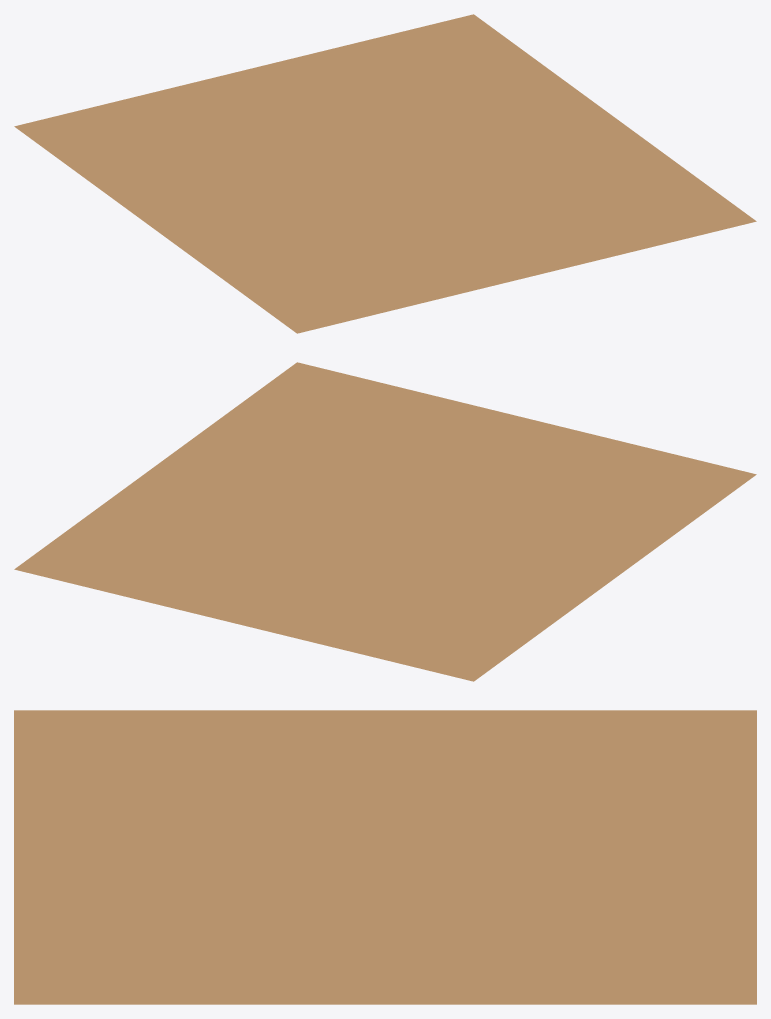
The model's file is PastoCentral.fbx.
The picture shows the model from 3 angles, top to bottom: view 1: azimuth 30°, elevation 25°; view 2: azimuth 150°, elevation 25°; view 3: azimuth 270°, elevation 25°; orthographic projection. The views are drawn at different scales.
Parts seen in each view (by area): view 1: Suelo.001; view 2: Suelo.001; view 3: Suelo.001.
Part boxes in pixels (left/top/right/bottom): Suelo.001: left=14, top=14, right=756, bottom=333; Suelo.001: left=14, top=362, right=756, bottom=681; Suelo.001: left=14, top=710, right=756, bottom=1004.
Size of the model in its own units: 6516 by 0.00113 by 6951.
